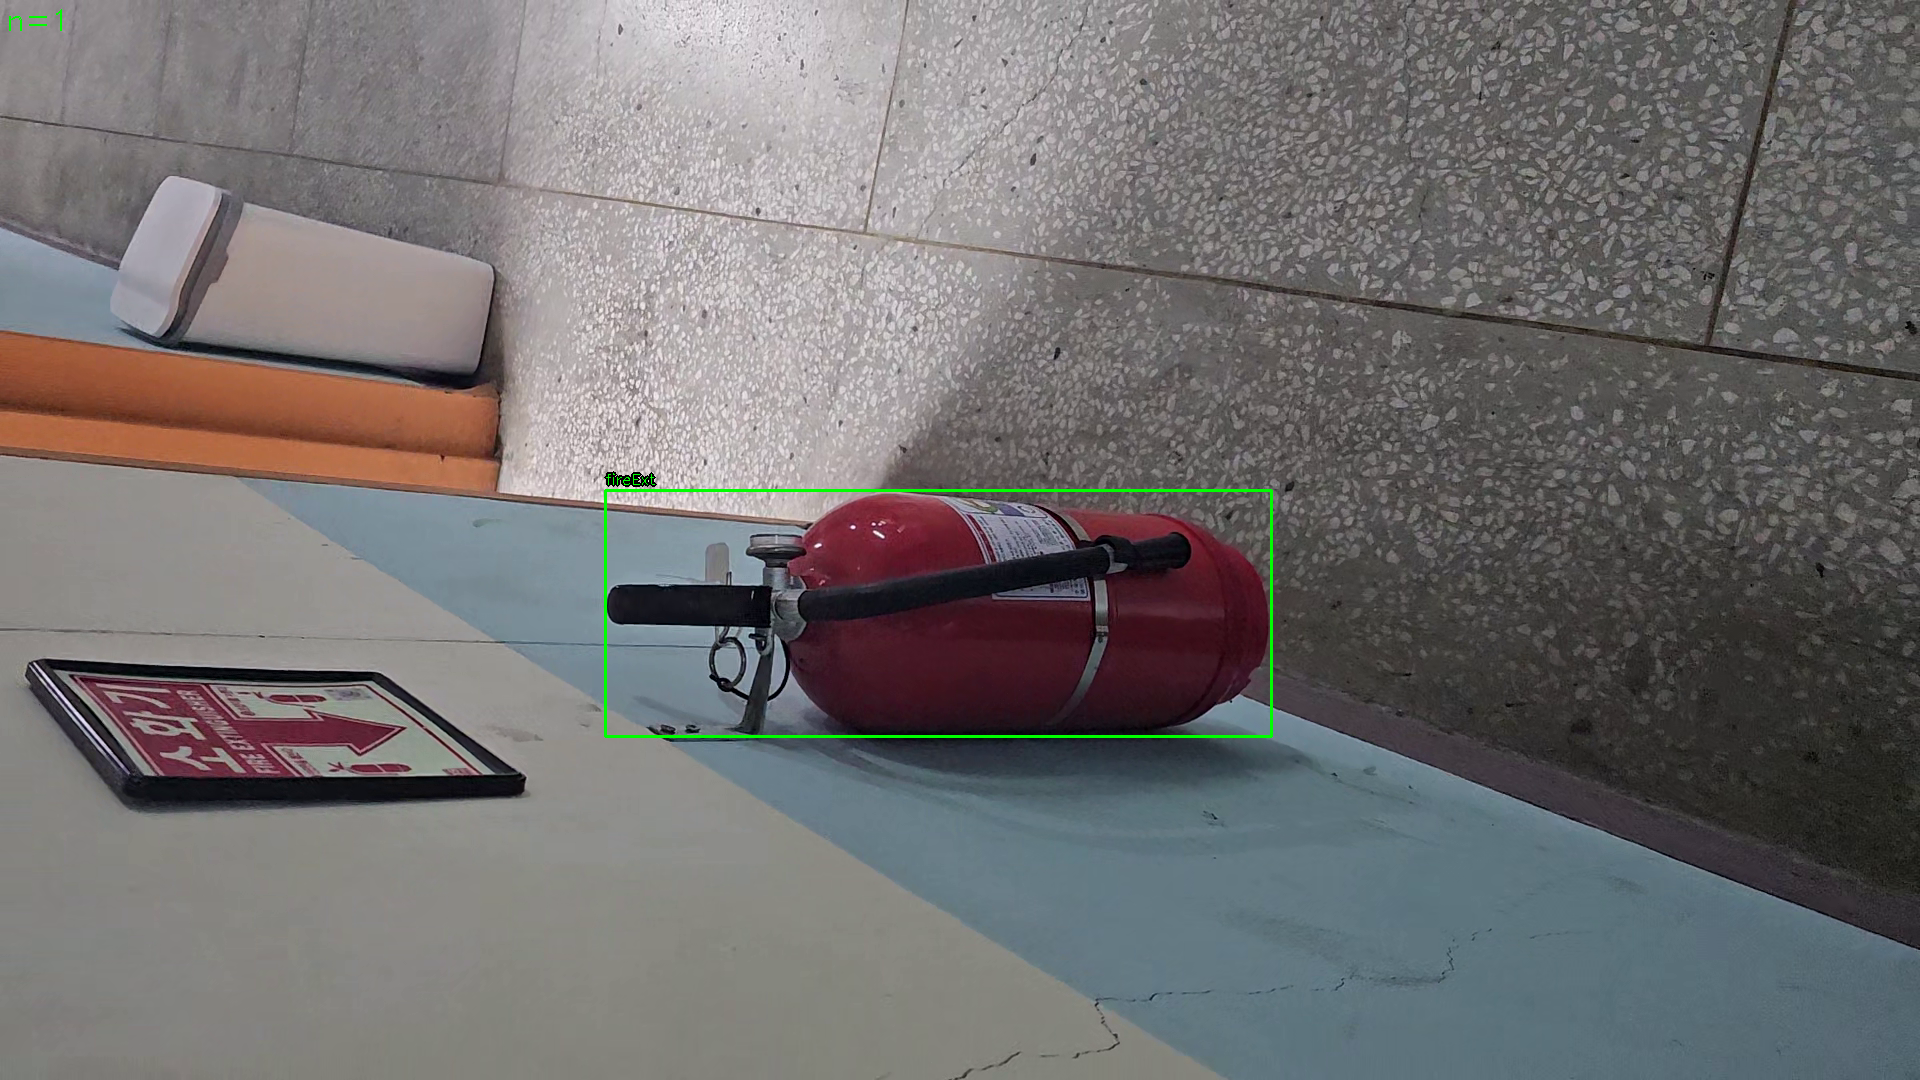lane: (605, 491, 1273, 737)
